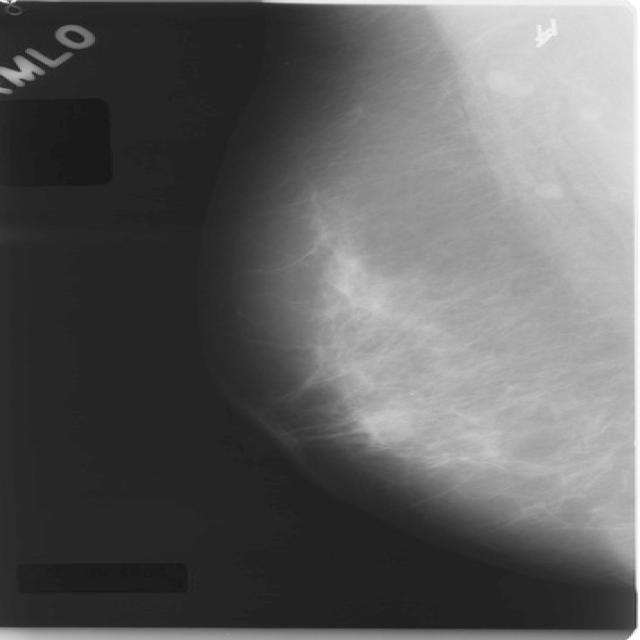tumour: (357, 408, 416, 444)
